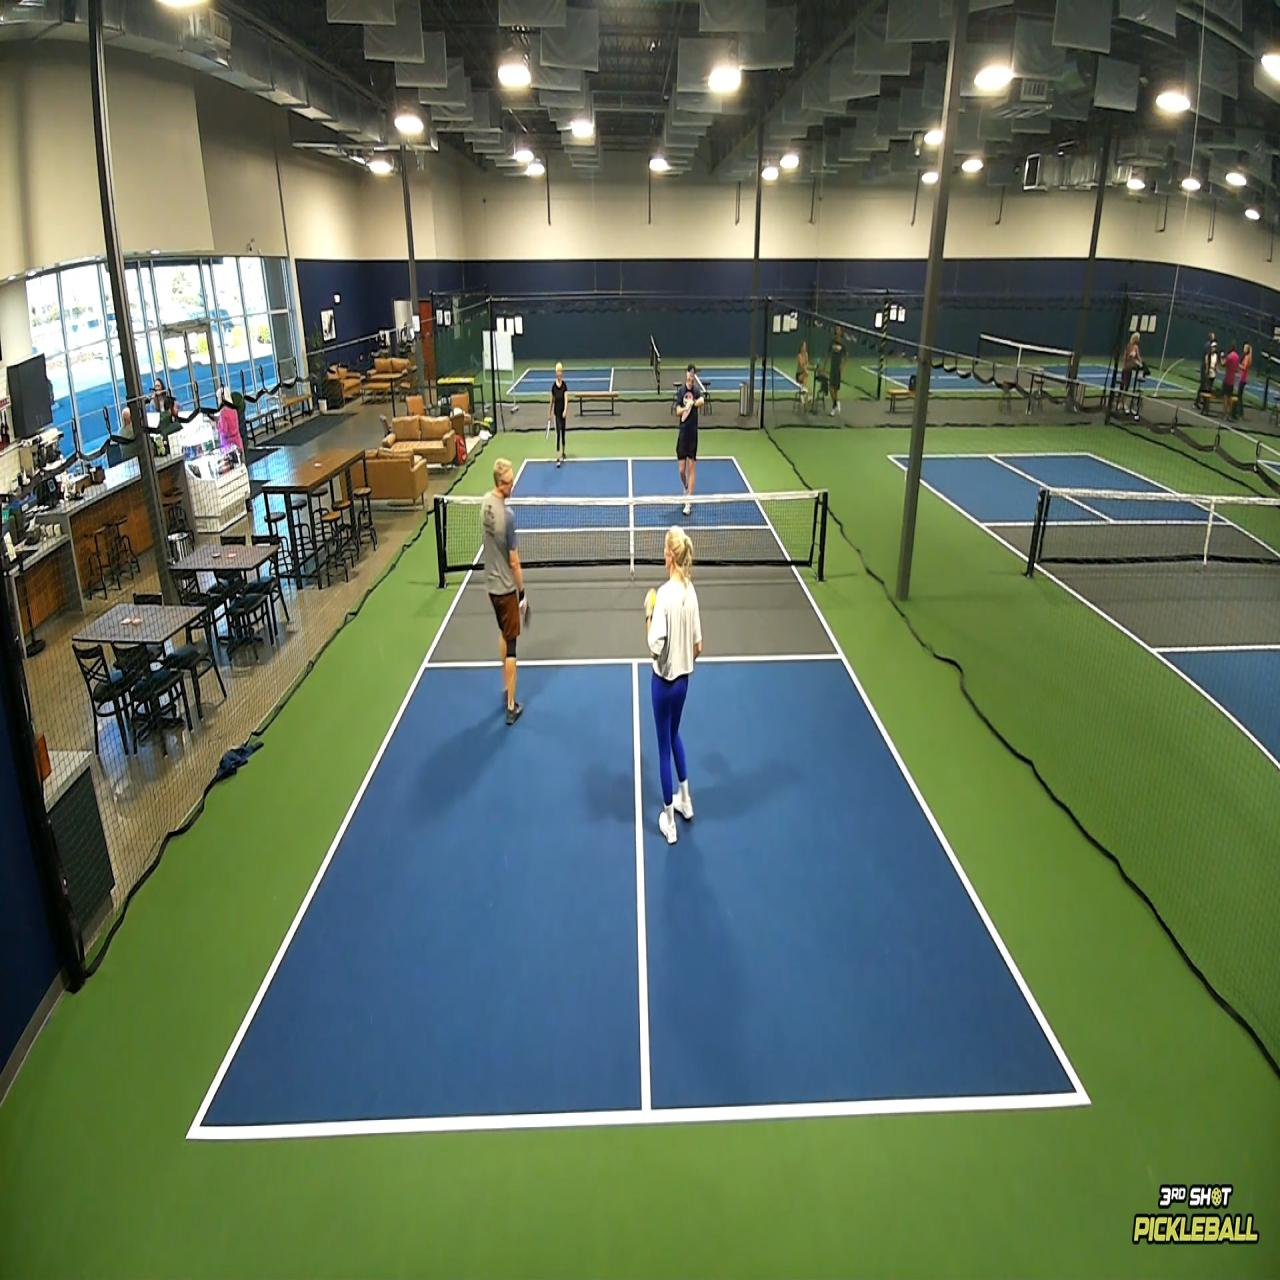Pickleball: (642, 586, 656, 619)
